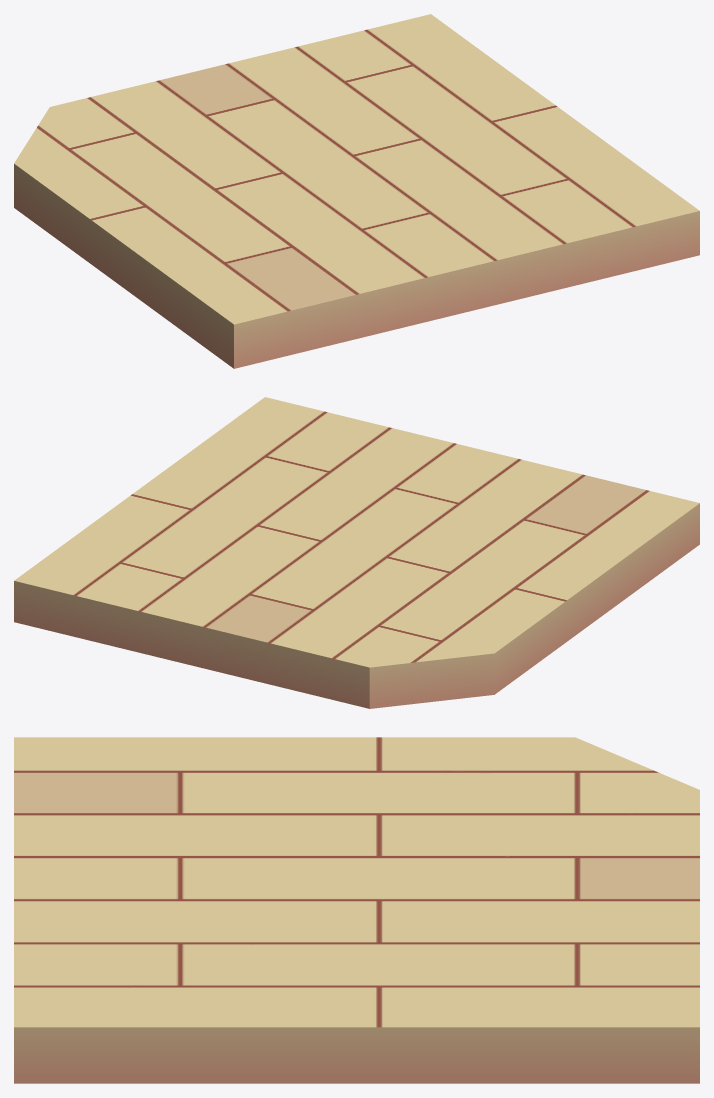
The model's file is floorCornerWooden.fbx.
3 renders of one model, top to bottom at view 1: azimuth 30°, elevation 25°; view 2: azimuth 150°, elevation 25°; view 3: azimuth 270°, elevation 25°, orthographic. The views are drawn at different scales.
Parts seen in each view (by area): view 1: floorCornerWooden; view 2: floorCornerWooden; view 3: floorCornerWooden.
Part boxes in pixels (box(x1,y1,x2,y2)): floorCornerWooden: box(14, 14, 699, 368); floorCornerWooden: box(14, 397, 699, 708); floorCornerWooden: box(14, 737, 699, 1083).
Bounding box in the file's own units: 128 × 11.62 × 128.
